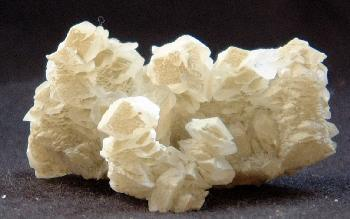calcite: (24, 22, 339, 212)
